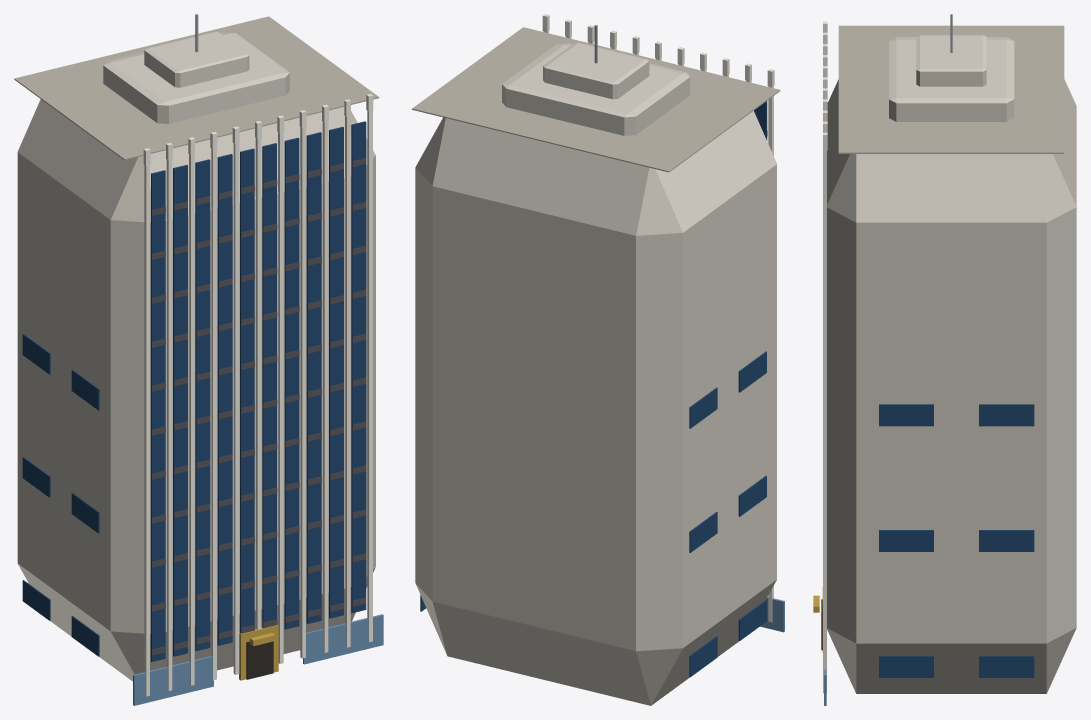
The model's file is office_f12_grid_w24.glb.
The picture shows the model from 3 angles, left to right: view 1: azimuth 30°, elevation 25°; view 2: azimuth 150°, elevation 25°; view 3: azimuth 270°, elevation 25°; orthographic projection. The views are drawn at different scales.
Parts seen in each view (by area): view 1: walls, roofslab, crown1, chan.003, chan.007, chan.002, chan.006, chan.009, chan.001, chan, chan.008, chan.005 (+23 smaller); view 2: walls, roofslab, crown1, crown2, sb.002, sb.008, sb.010, sb.004, sb.006, sb; view 3: walls, roofslab, crown1, crown2, pier.010, sb.011, sb.009, sb.003, sb.007, sb.001, sb.005.
Boxes of the visible parts, left/top/right/bottom form: walls: left=17, top=99, right=375, bottom=681; roofslab: left=14, top=16, right=379, bottom=160; crown1: left=103, top=32, right=289, bottom=123; chan.003: left=217, top=154, right=232, bottom=645; chan.007: left=306, top=132, right=321, bottom=623; chan.002: left=195, top=159, right=210, bottom=651; chan.006: left=284, top=137, right=299, bottom=629; chan.009: left=351, top=121, right=366, bottom=612; chan.001: left=173, top=165, right=187, bottom=656; chan: left=151, top=170, right=165, bottom=661; chan.008: left=329, top=126, right=343, bottom=618; chan.005: left=262, top=143, right=276, bottom=627; walls: left=415, top=110, right=776, bottom=705; roofslab: left=412, top=27, right=780, bottom=172; crown1: left=502, top=43, right=690, bottom=135; crown2: left=543, top=42, right=649, bottom=99; sb.002: left=689, top=636, right=717, bottom=677; sb.008: left=738, top=351, right=766, bottom=392; sb.010: left=689, top=387, right=717, bottom=428; sb.004: left=738, top=475, right=766, bottom=516; sb.006: left=689, top=512, right=717, bottom=552; sb: left=738, top=600, right=766, bottom=640; walls: left=827, top=79, right=1076, bottom=693; roofslab: left=838, top=25, right=1064, bottom=153; crown1: left=889, top=37, right=1014, bottom=121; crown2: left=916, top=34, right=986, bottom=86; pier.010: left=823, top=150, right=826, bottom=693; sb.011: left=979, top=404, right=1034, bottom=426; sb.009: left=879, top=404, right=933, bottom=426; sb.003: left=979, top=656, right=1034, bottom=677; sb.007: left=979, top=530, right=1034, bottom=551; sb.001: left=879, top=656, right=933, bottom=677; sb.005: left=879, top=530, right=933, bottom=551.
Size of the model in its own units: 24.2 by 53.2 by 20.2.
